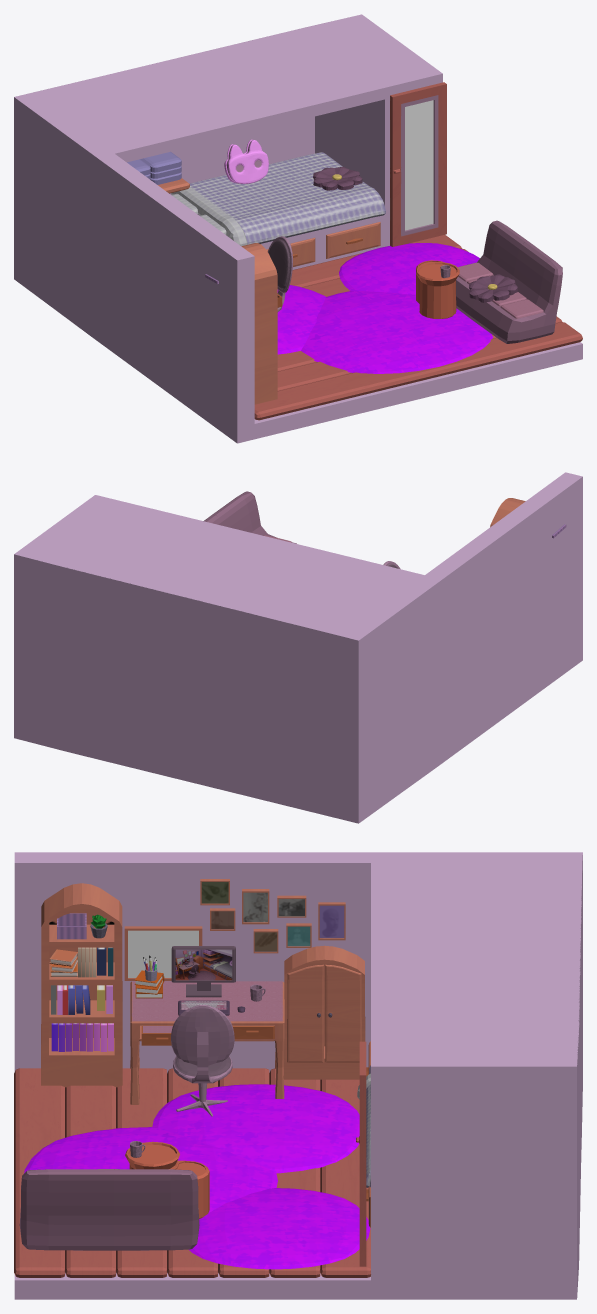
File: isometric_room.glb
The picture shows the model from 3 angles, top to bottom: view 1: azimuth 30°, elevation 25°; view 2: azimuth 150°, elevation 25°; view 3: azimuth 270°, elevation 25°; orthographic projection. The views are drawn at different scales.
Visible parts, largest first — view 1: WALLS, carpet 2, sheet, FLOOR BOARDS, wardrob door, COUCH, BIG SHELF, coffee table, BOTTOM SHELFS, pillow cat.001, PILLOWS COUCH, idk (+3 smaller); view 2: WALLS, COUCH; view 3: WALLS, carpet 2, FLOOR BOARDS, COUCH, BIG SHELF, BIG SHELF.002, TABLE, picture frames, chair, BIG SHELF.001, LAPTOP.003, picture frames.006 (+10 smaller).
Boxes of the visible parts, bbox=[...] form: WALLS: bbox=[14, 14, 582, 443]; carpet 2: bbox=[277, 243, 492, 373]; sheet: bbox=[171, 152, 385, 246]; FLOOR BOARDS: bbox=[254, 235, 582, 420]; wardrob door: bbox=[390, 82, 446, 246]; COUCH: bbox=[456, 220, 562, 343]; BIG SHELF: bbox=[241, 243, 277, 404]; coffee table: bbox=[416, 260, 459, 318]; BOTTOM SHELFS: bbox=[266, 222, 380, 266]; pillow cat.001: bbox=[224, 139, 268, 183]; PILLOWS COUCH: bbox=[457, 262, 543, 318]; idk: bbox=[127, 151, 181, 184]; WALLS: bbox=[14, 472, 582, 823]; COUCH: bbox=[203, 491, 296, 543]; WALLS: bbox=[14, 852, 582, 1299]; carpet 2: bbox=[24, 1084, 370, 1269]; FLOOR BOARDS: bbox=[14, 1068, 371, 1277]; COUCH: bbox=[19, 1169, 199, 1250]; BIG SHELF: bbox=[41, 883, 122, 1087]; BIG SHELF.002: bbox=[287, 964, 361, 1062]; TABLE: bbox=[130, 981, 284, 1104]; picture frames: bbox=[200, 879, 345, 953]; chair: bbox=[171, 1005, 234, 1116]; BIG SHELF.001: bbox=[284, 945, 365, 1079]; LAPTOP.003: bbox=[171, 946, 235, 997]; picture frames.006: bbox=[124, 926, 202, 980].
Size of the model in its own units: 3.99 by 2 by 4.43.
Materials: 41 (33 with a texture image).
